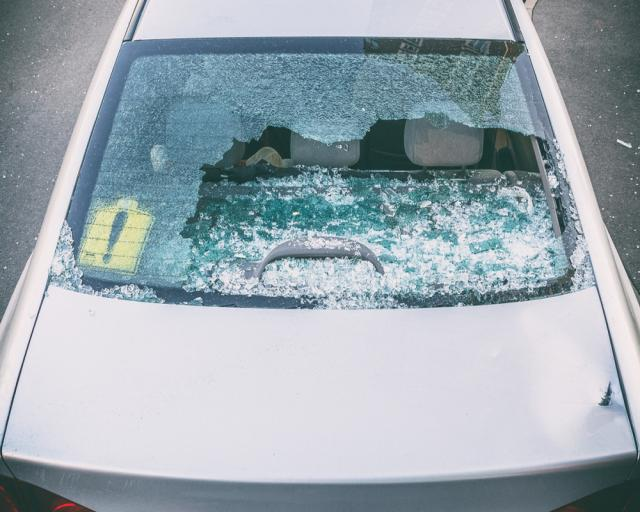crack: (597, 379, 613, 406)
glass shatter: (47, 37, 597, 310)
